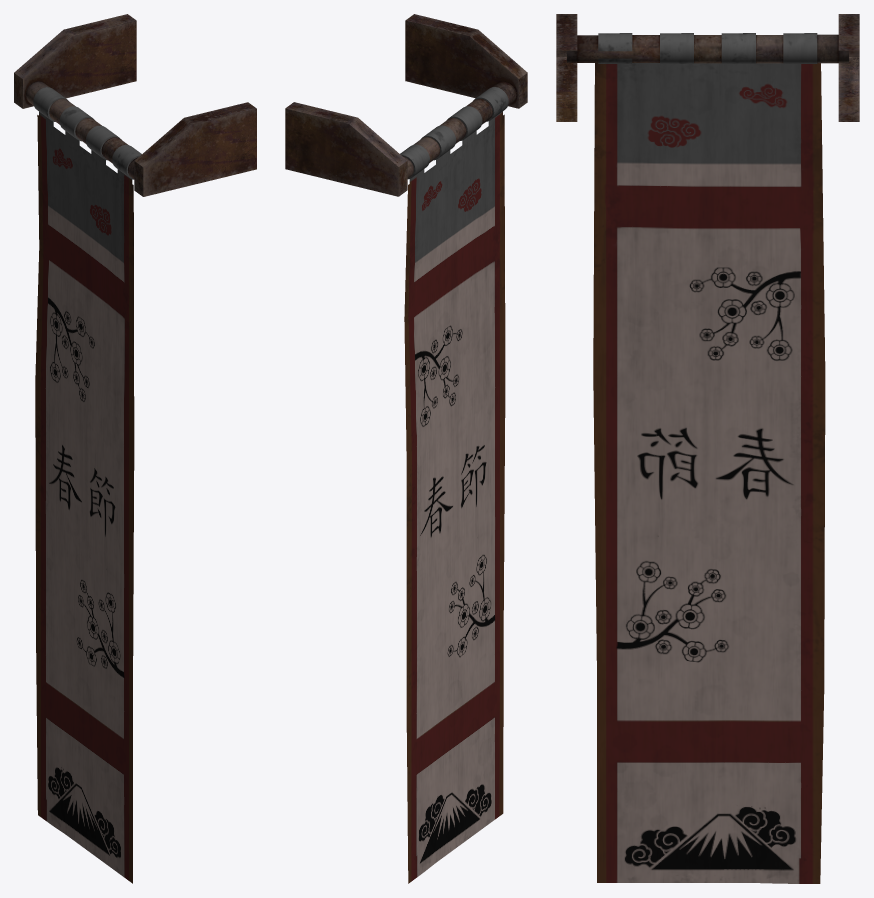
File: SM_Flags_03.fbx
The picture shows the model from 3 angles, left to right: view 1: azimuth 30°, elevation 25°; view 2: azimuth 150°, elevation 25°; view 3: azimuth 270°, elevation 25°; orthographic projection. The views are drawn at different scales.
Parts seen in each view (by area): view 1: SM_Flags_03; view 2: SM_Flags_03; view 3: SM_Flags_03.
Boxes of the visible parts, x1,y1,x2,y2 form: SM_Flags_03: (14, 14, 256, 883); SM_Flags_03: (285, 14, 527, 883); SM_Flags_03: (556, 14, 859, 883).
Bounding box in the file's own units: 89.68 × 177 × 575.
1 material, 1 textured.
